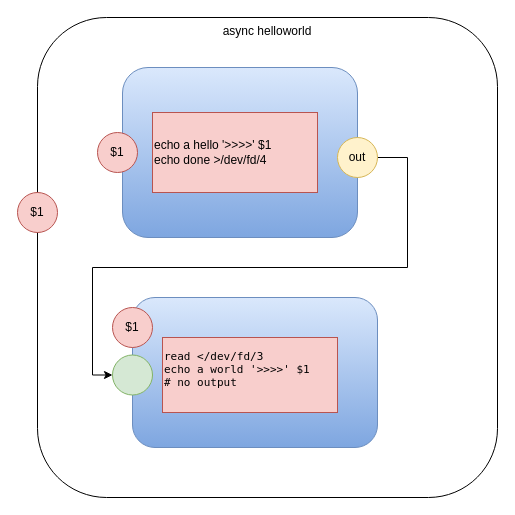
Image size: 515x515. Some labels were removed from this diagram. The box of each missing label's shape, as (x1, y1, x2, y2) in pixels:
async hello: (122, 66, 358, 238)
async world: (132, 296, 378, 448)
in: (112, 354, 152, 395)
